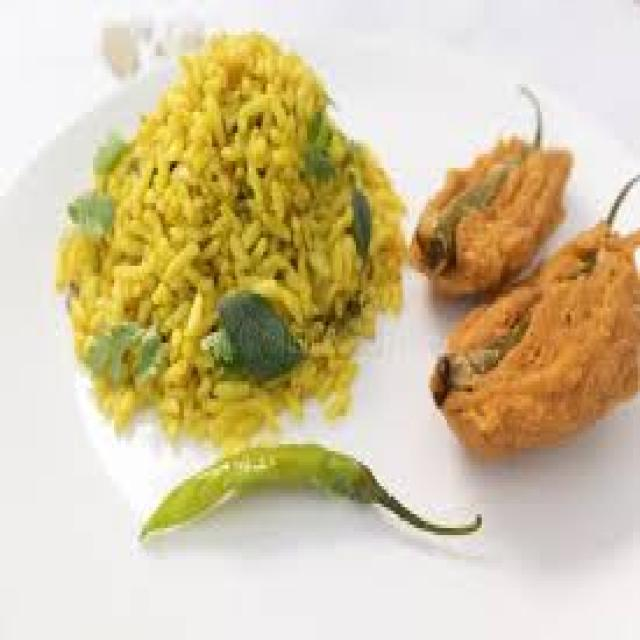POHA: (54, 28, 405, 444)
